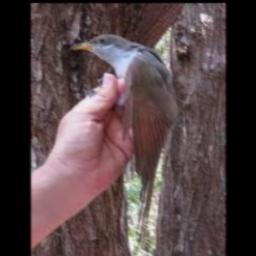Cuckoo: (71, 34, 178, 247)
